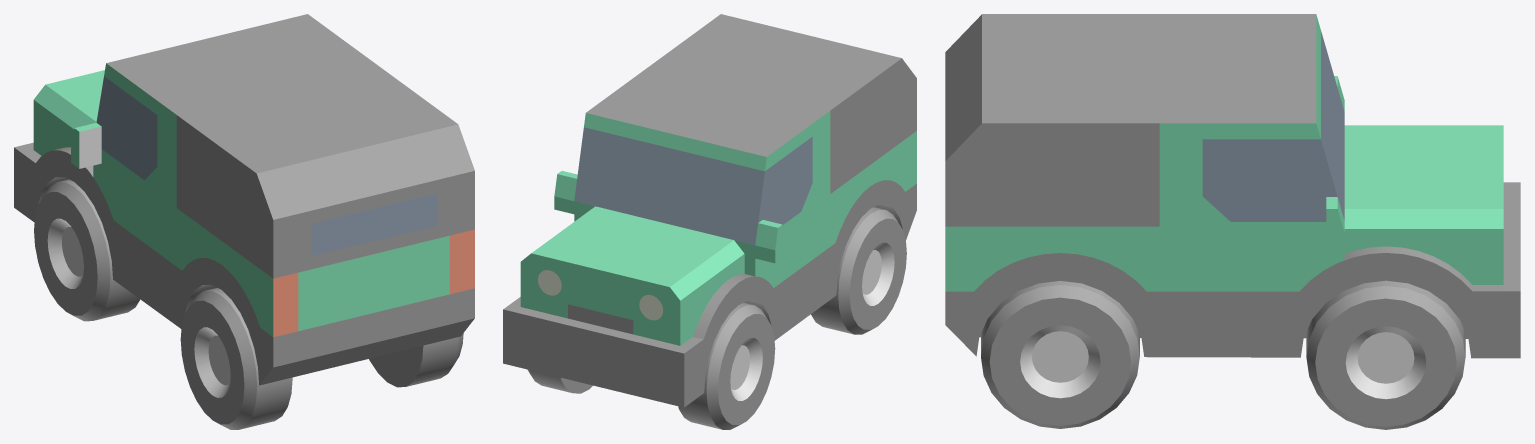
The model's file is carJeep.gltf.
3 views of the same model, side by side, from view 1: azimuth 30°, elevation 25°; view 2: azimuth 150°, elevation 25°; view 3: azimuth 270°, elevation 25° (orthographic). The views are drawn at different scales.
Visible parts, largest first — view 1: body 4, wheelBackLeft 4, wheelFrontLeft 4, wheelBackRight 4; view 2: body 4, wheelBackLeft 4, wheelFrontLeft 4, wheelFrontRight 4; view 3: body 4, wheelFrontRight 4, wheelBackRight 4.
Boxes of the visible parts, x1=… form: body 4: x1=14, y1=14, x2=474, y2=385; wheelBackLeft 4: x1=180, y1=287, x2=292, y2=429; wheelFrontLeft 4: x1=34, y1=179, x2=140, y2=321; wheelBackRight 4: x1=369, y1=333, x2=463, y2=387; body 4: x1=503, y1=14, x2=916, y2=407; wheelBackLeft 4: x1=811, y1=207, x2=906, y2=334; wheelFrontLeft 4: x1=678, y1=302, x2=775, y2=429; wheelFrontRight 4: x1=527, y1=369, x2=592, y2=393; body 4: x1=945, y1=14, x2=1520, y2=358; wheelFrontRight 4: x1=1306, y1=280, x2=1465, y2=429; wheelBackRight 4: x1=981, y1=281, x2=1139, y2=428.
Size of the model in its own units: 0.555 by 0.5988 by 1.01.
